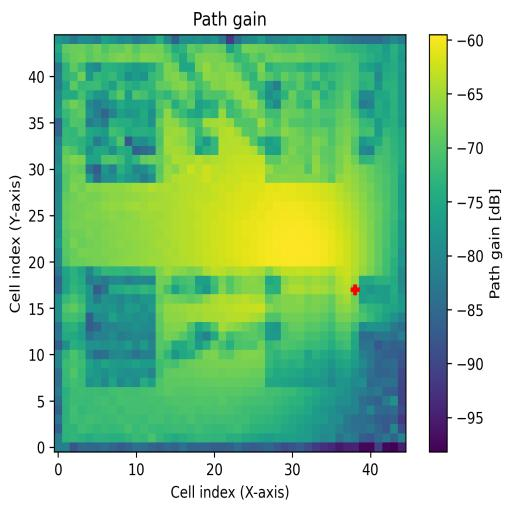Concrete: (265, 60, 337, 182)
Glass: (86, 63, 163, 183)
Metal: (266, 275, 335, 387)
Wood: (85, 265, 156, 386)
